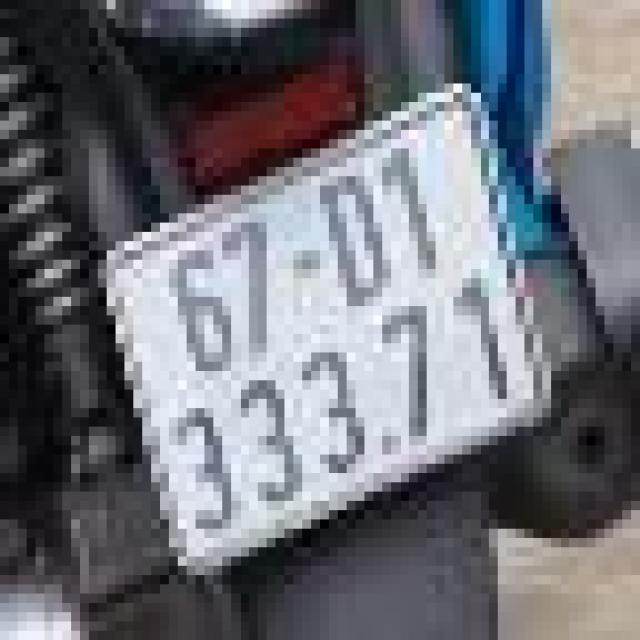1: (437, 263, 534, 413), (371, 128, 466, 281)
3: (281, 329, 389, 490), (226, 371, 325, 523), (163, 395, 250, 545)
6: (153, 232, 254, 392)
7: (365, 293, 477, 451), (218, 196, 297, 371)
D: (305, 156, 417, 328)
